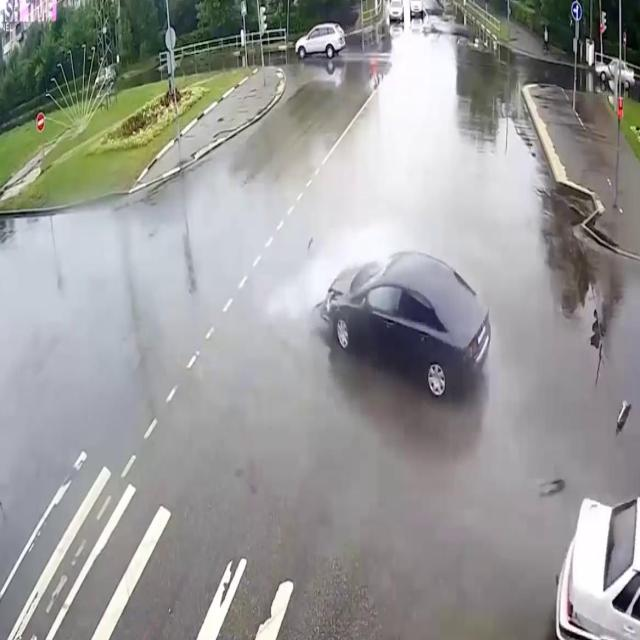accident: (276, 215, 512, 421)
